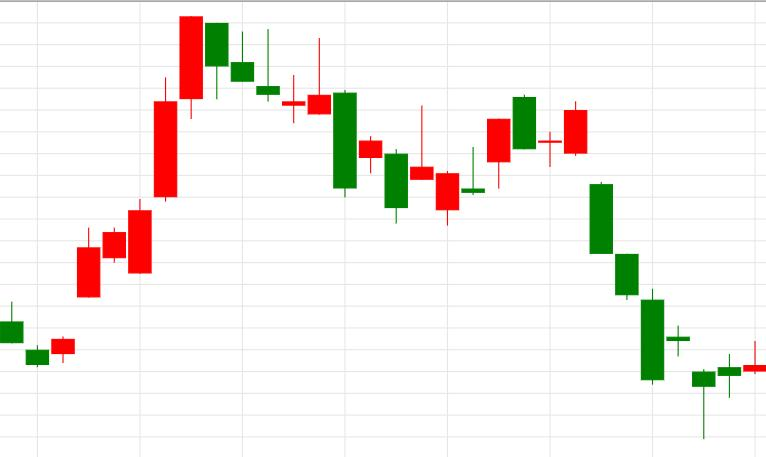three_black_crows_fall: (436, 93, 665, 385)
